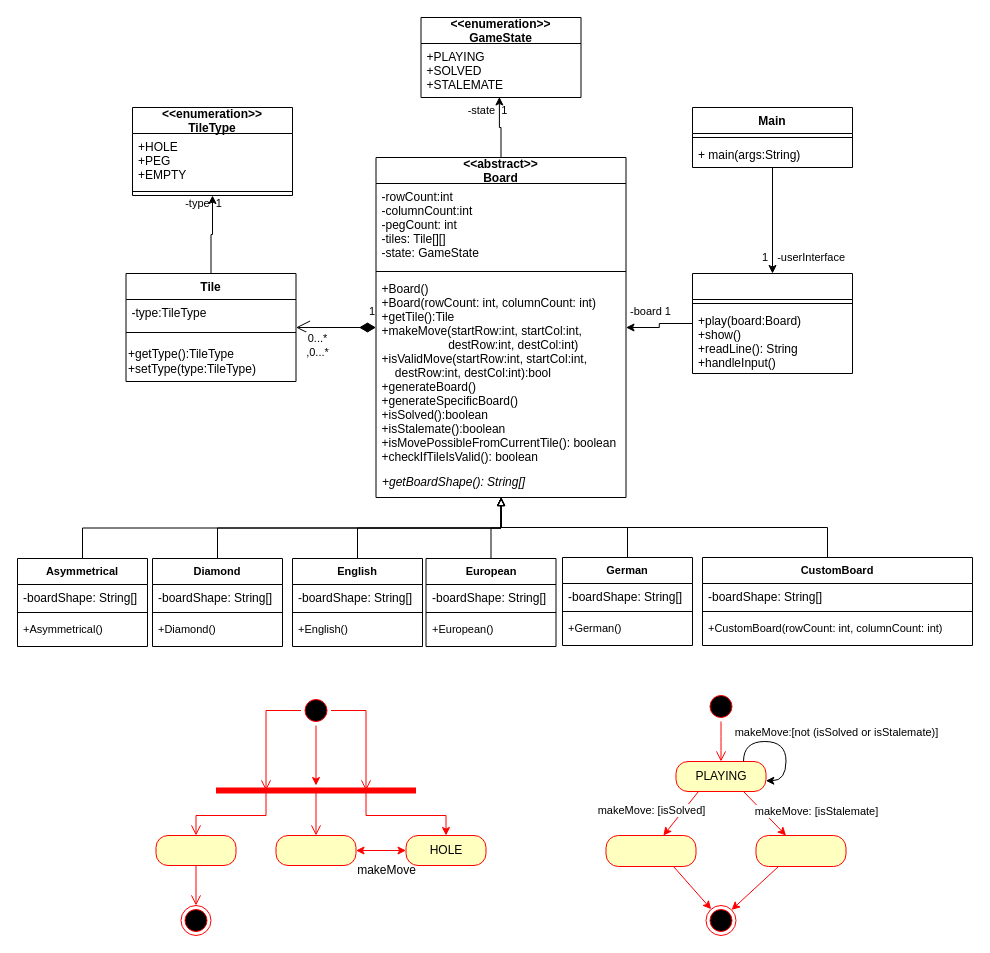
The diagram is 990 pixels wide and 953 high, and some of its shapes have lost their labels. Here are the shapes that lost their labels. From the top down, the box of each, then its label:
(692, 272, 852, 374): ConsoleUI
(155, 834, 236, 866): EMPTY
(275, 834, 356, 866): PEG
(605, 834, 696, 866): SOLVED
(755, 834, 846, 866): STALEMATE
